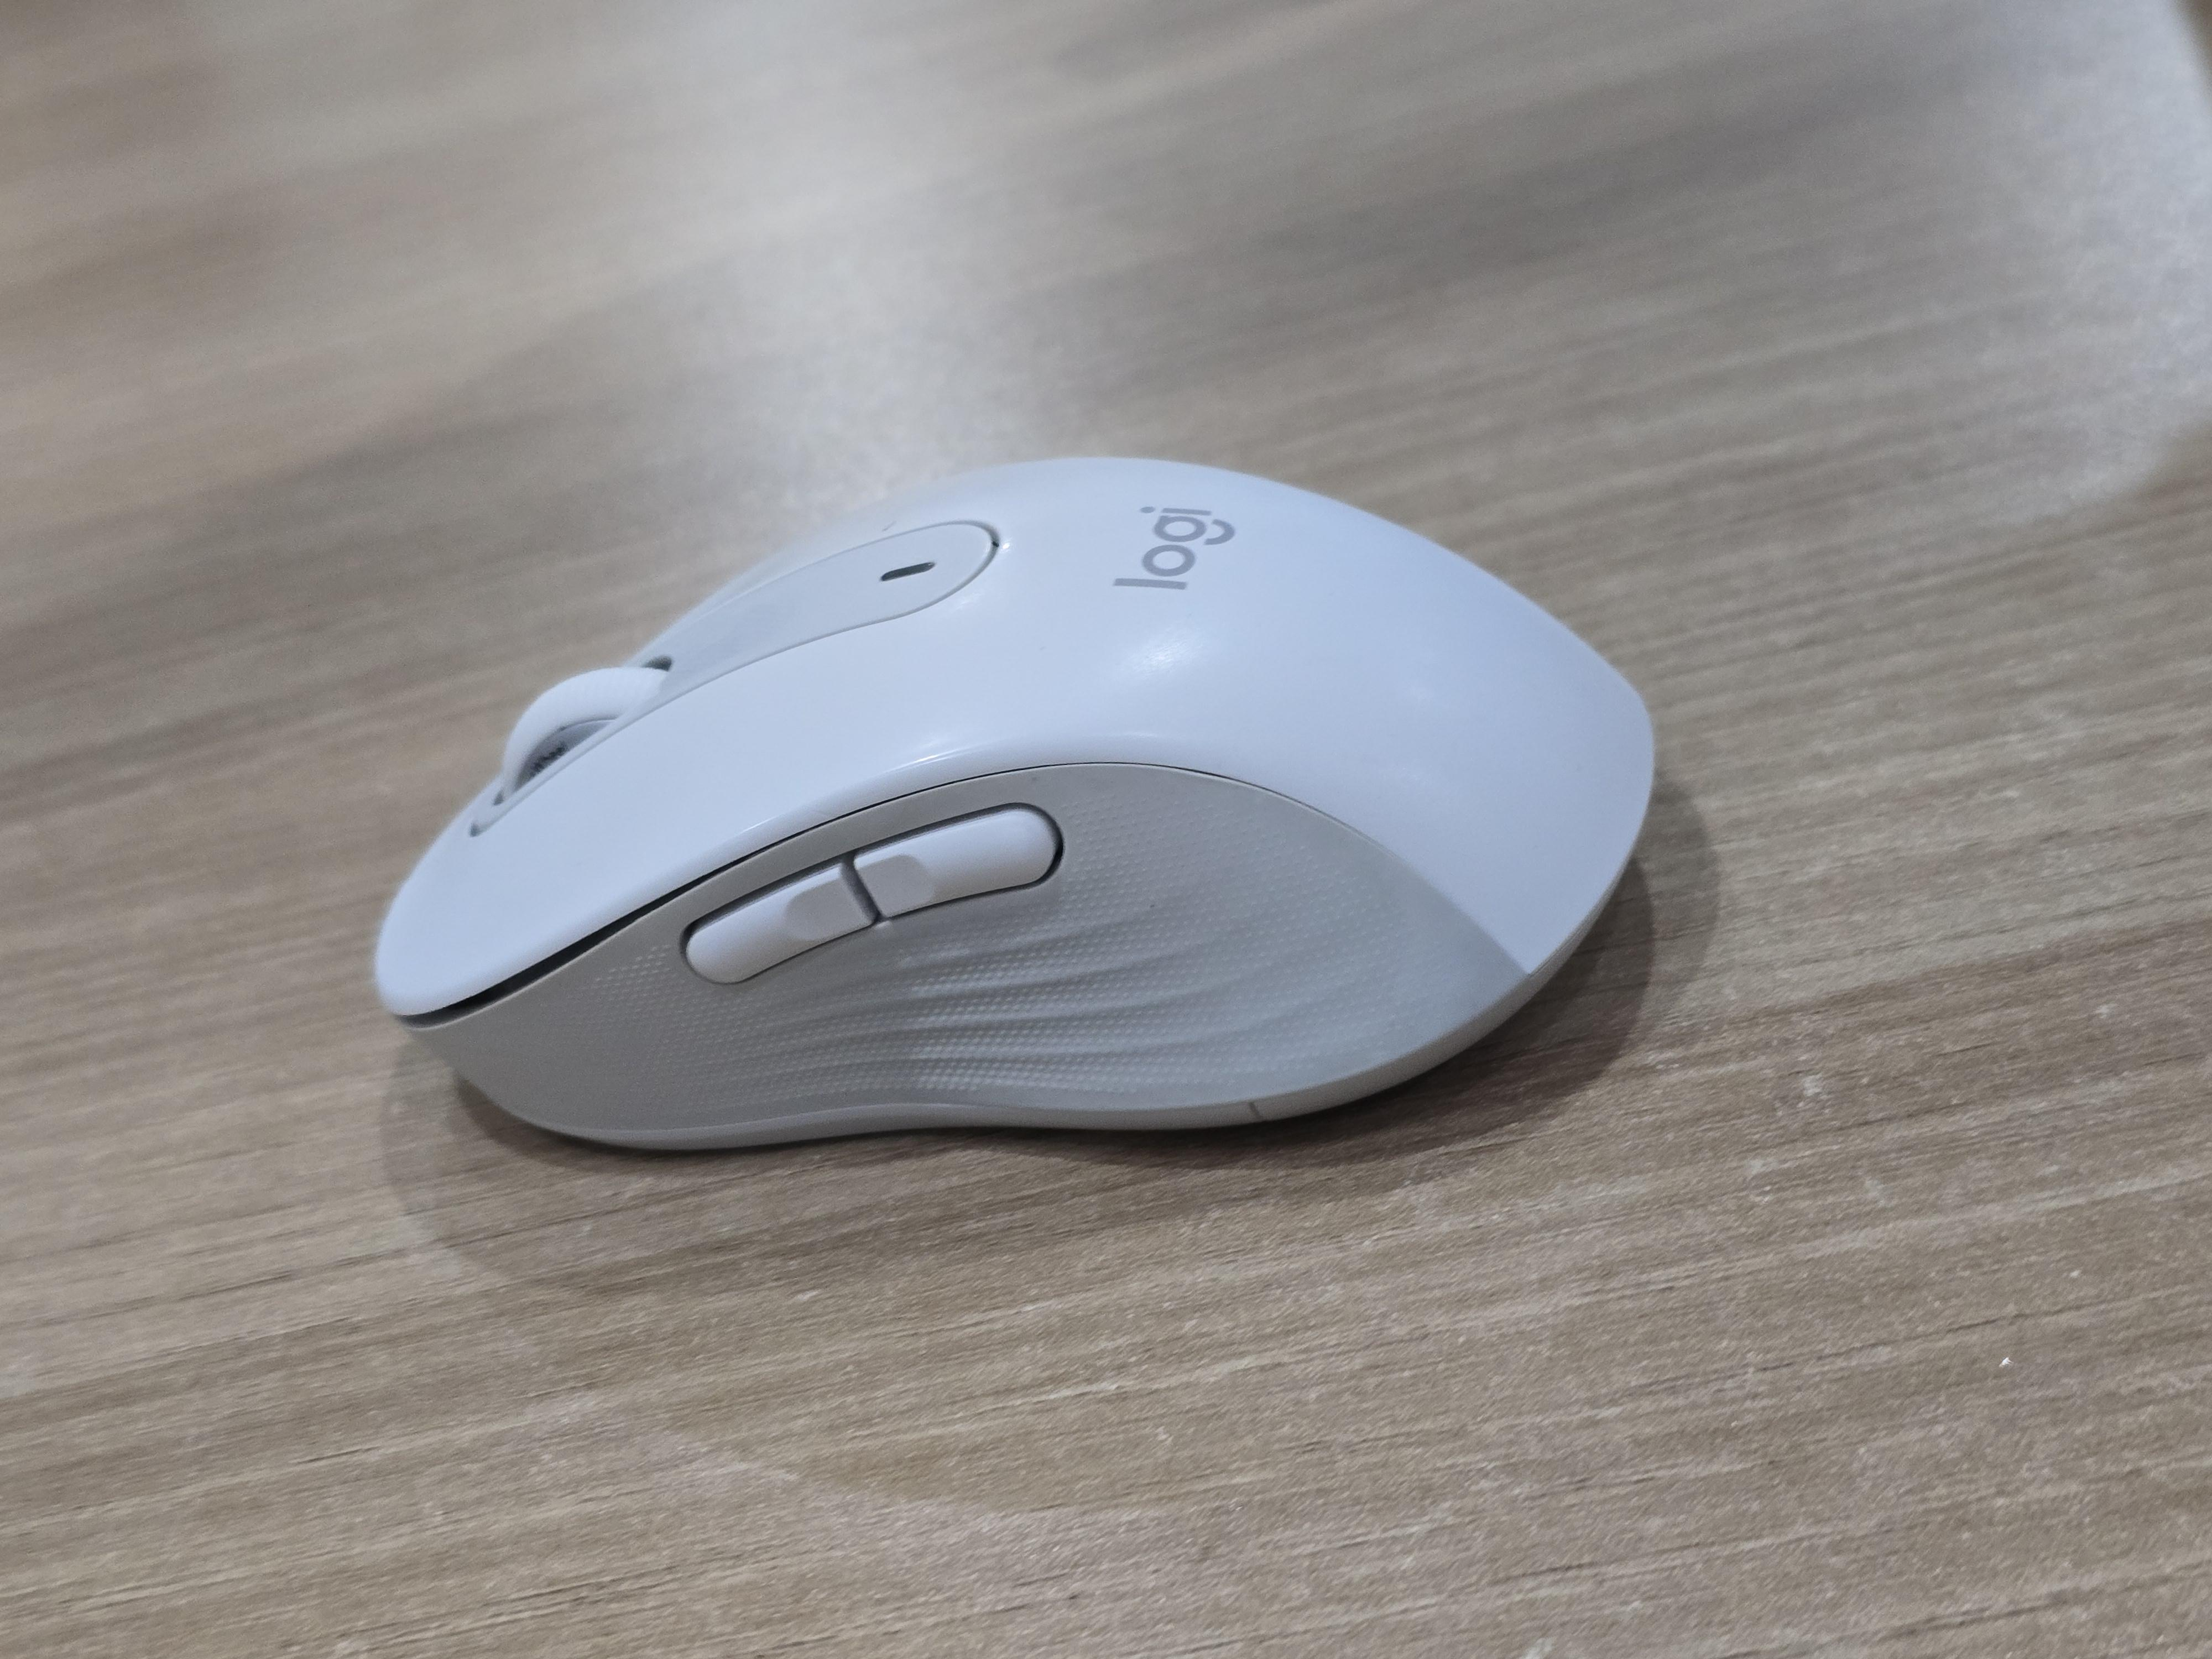mouse: (371, 451, 1658, 1154)
